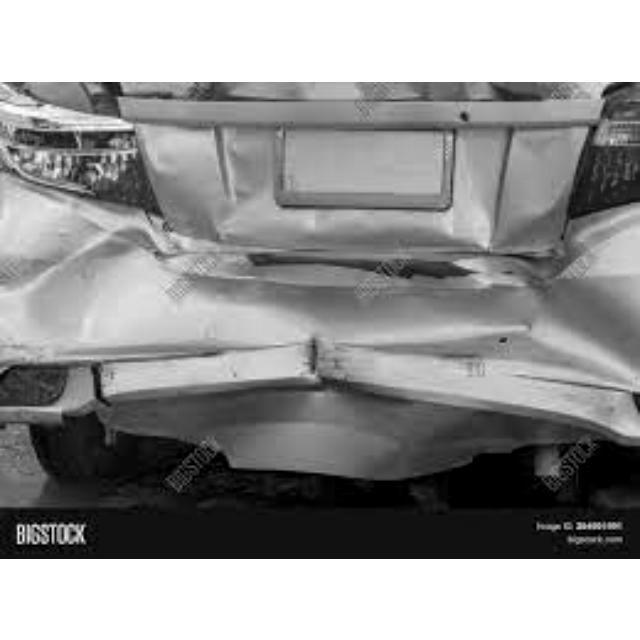Taillight-Damage: (1, 99, 152, 200)
boot-dent: (116, 81, 598, 255)
rear-bumper-dent: (2, 279, 640, 477)
